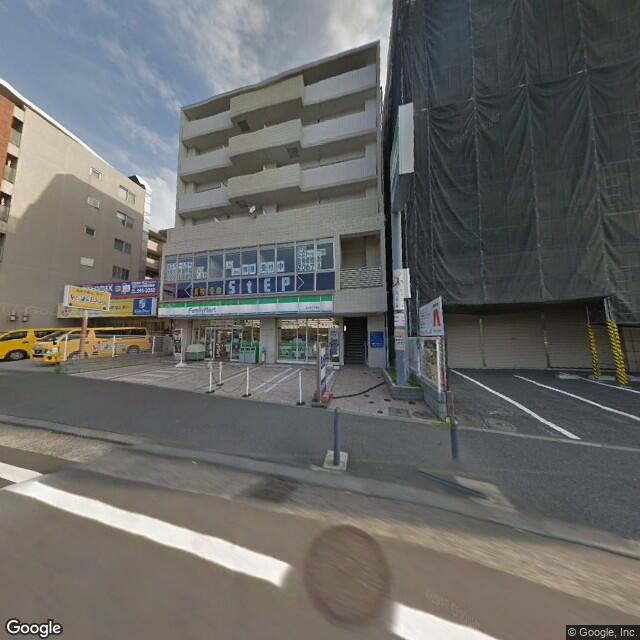family_mart: (158, 294, 335, 321), (186, 302, 219, 317)
